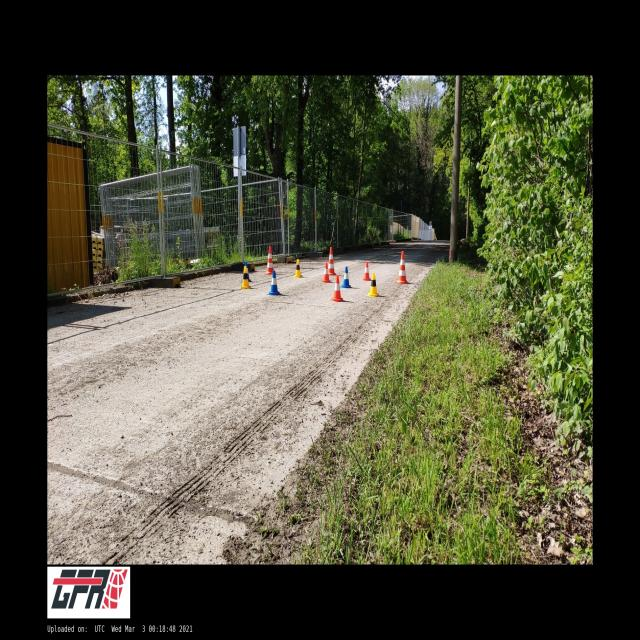blue_cone: (268, 271, 282, 295), (340, 267, 352, 288), (242, 263, 252, 282)
large_orange_cone: (395, 251, 408, 284), (328, 247, 336, 275), (265, 247, 273, 274)
orange_cone: (330, 276, 344, 302), (322, 263, 331, 283), (363, 262, 371, 280)
yellow_cone: (366, 273, 379, 296), (241, 266, 251, 289), (294, 259, 302, 277)
